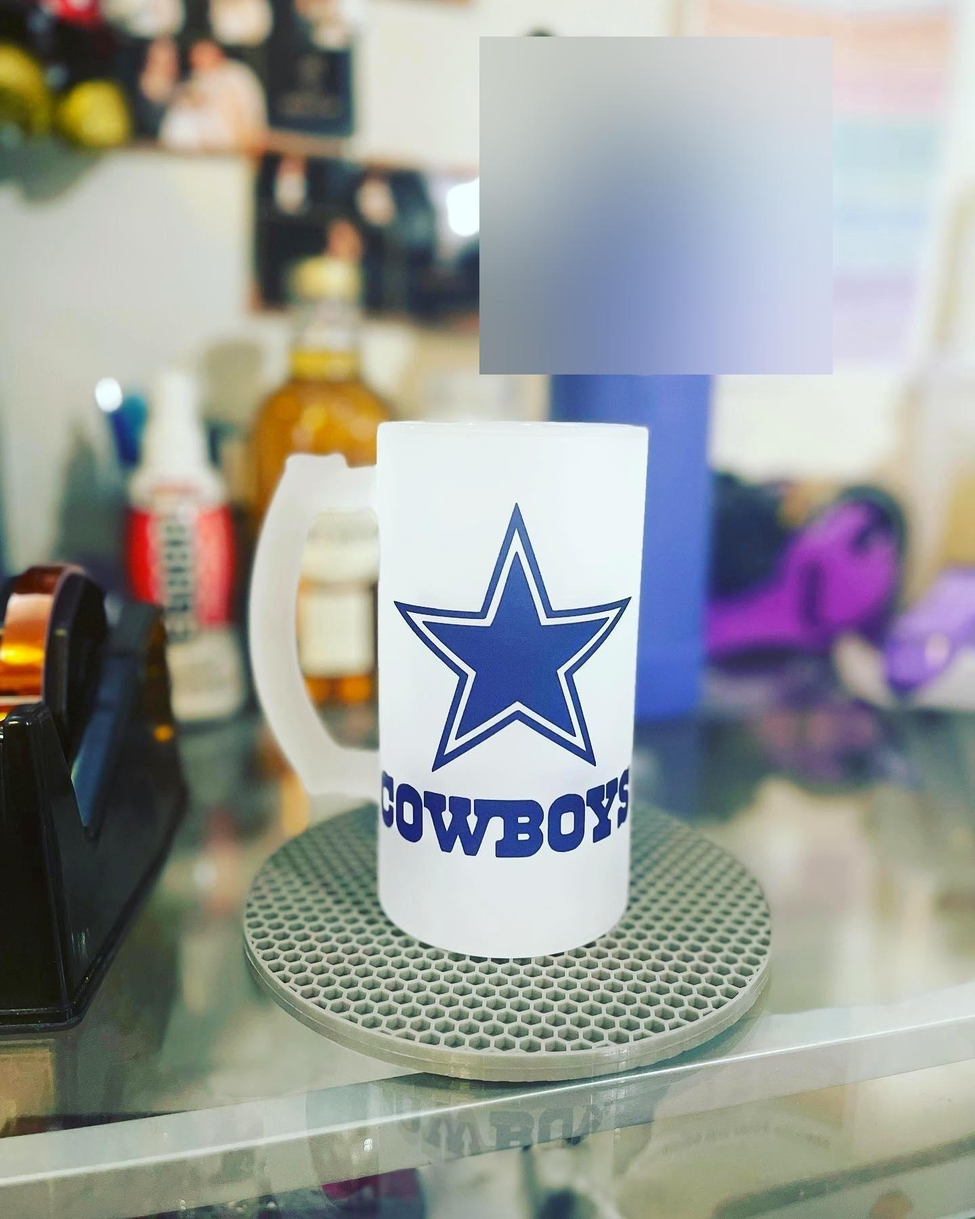glass-mug: (236, 402, 651, 965)
